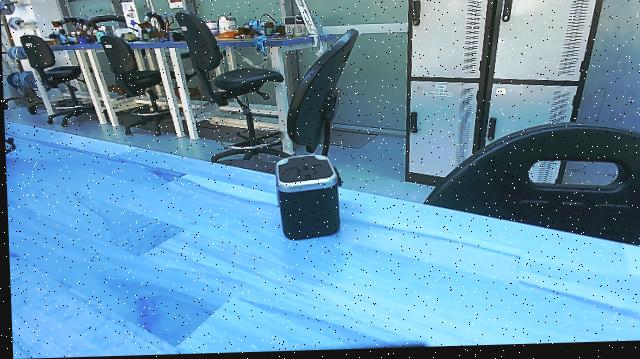adapter: (270, 152, 346, 244)
